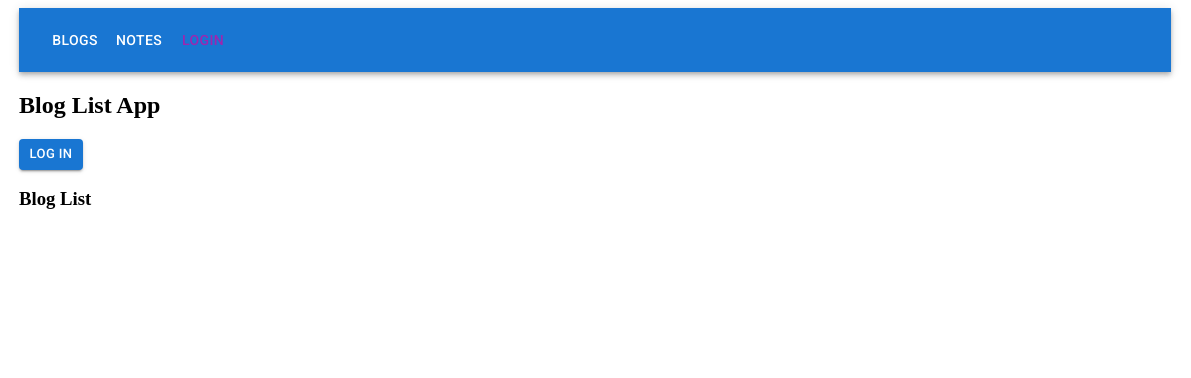
Test: Blog app › Login form is shown
Step 1. Click the button "log in" → (51,155), box x1=19 y1=139 x2=83 y2=170
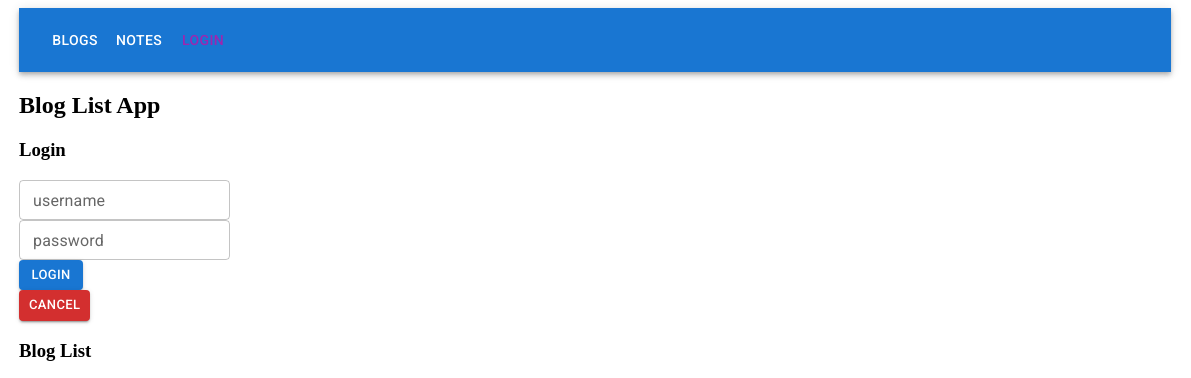
Check: the text "username" is shown, box x1=33 y1=188 x2=105 y2=212
Check: the text "password" is shown, box x1=33 y1=228 x2=104 y2=252
